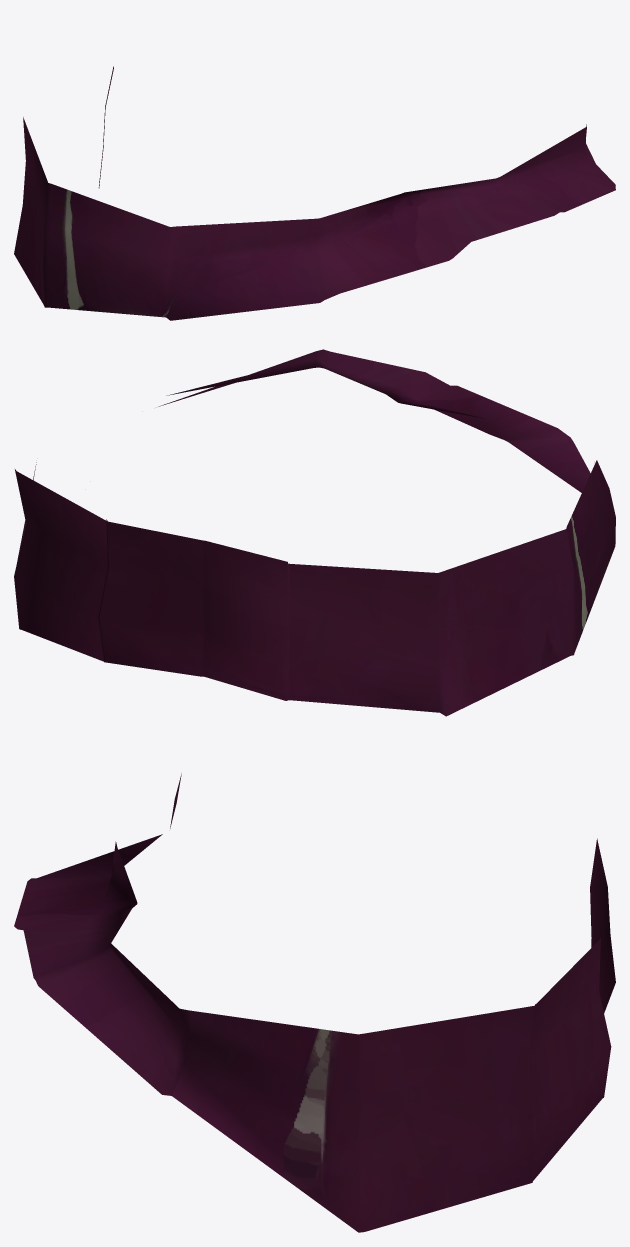
3 views of the same model, one above another, from view 1: azimuth 30°, elevation 25°; view 2: azimuth 150°, elevation 25°; view 3: azimuth 270°, elevation 25° (orthographic). The views are drawn at different scales.
Parts seen in each view (by area): view 1: geometry_0; view 2: geometry_0; view 3: geometry_0.
Part boxes in pixels (x1,y1,x2,y2): geometry_0: (14, 66, 615, 320); geometry_0: (14, 349, 615, 716); geometry_0: (14, 774, 615, 1232).
Size of the model in its own units: 0.4099 by 0.1233 by 0.3474.
1 material, 1 textured.
